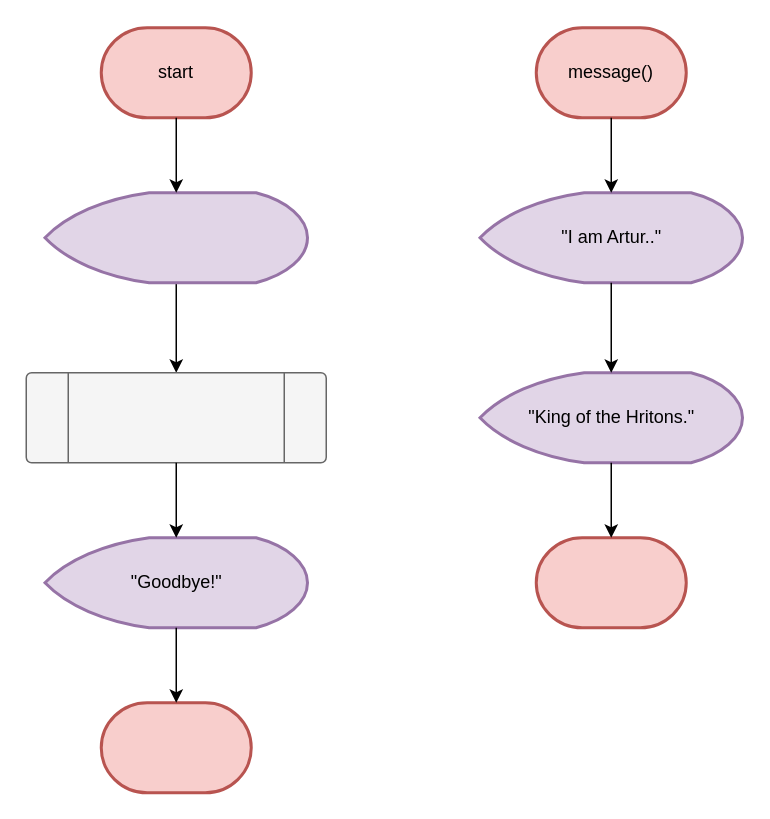
The diagram is 770 pixels wide and 819 high, and some of its shapes have lost their labels. Here are the shapes that lost their labels. From the top down, the centre of each, then its label:
(175,237): "i have a message for you."
(610,582): Return
(175,747): Stop
